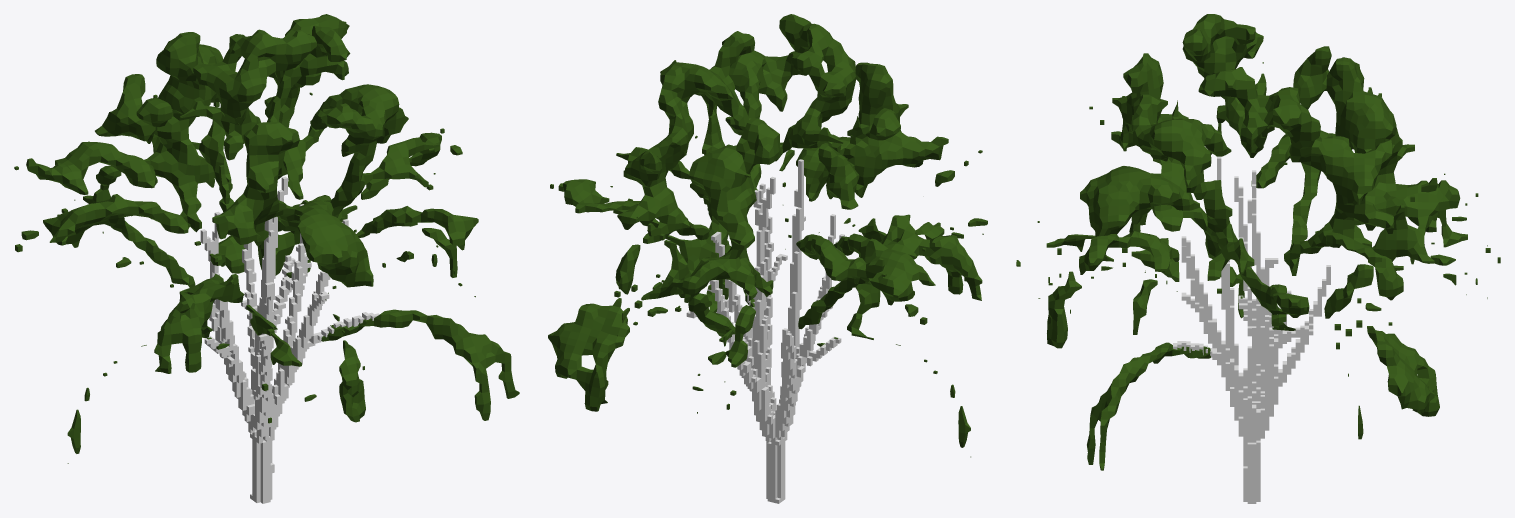
Rendered from Small bush low resolution.fbx.
The picture shows the model from 3 angles, left to right: view 1: azimuth 30°, elevation 25°; view 2: azimuth 150°, elevation 25°; view 3: azimuth 270°, elevation 25°; orthographic projection. The views are drawn at different scales.
Visible parts, largest first — view 1: leaves.005, tree.005 done; view 2: leaves.005, tree.005 done; view 3: leaves.005, tree.005 done.
Boxes of the visible parts, x1,y1,x2,y2 form: leaves.005: (14, 14, 519, 463); tree.005 done: (200, 176, 379, 503); leaves.005: (548, 14, 987, 457); tree.005 done: (686, 159, 844, 503); leaves.005: (1016, 14, 1500, 470); tree.005 done: (1173, 157, 1330, 503).
Size of the model in its own units: 611 by 687 by 634.
